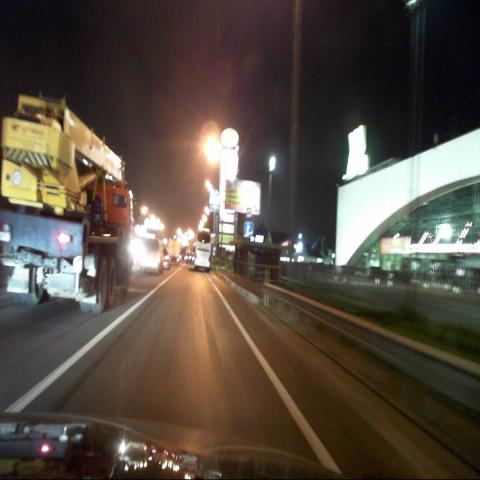5_16: (246, 207, 252, 222)
6_6: (244, 221, 253, 239)
